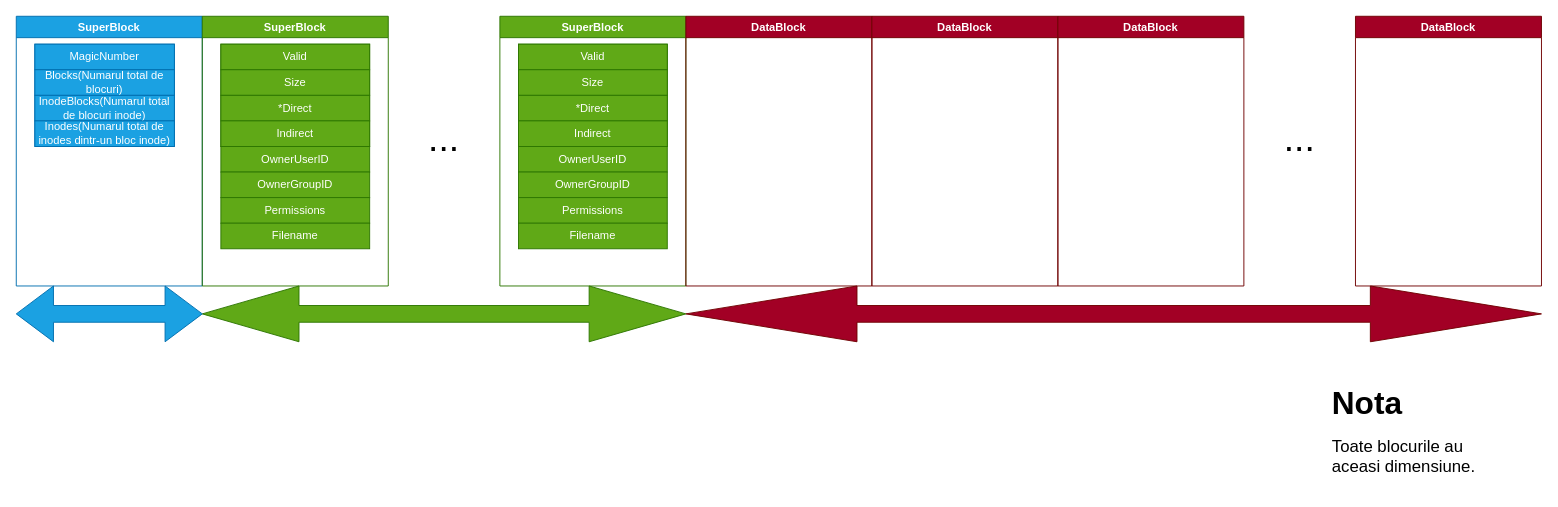
This 1558x507 diagram has some shape labels left out. Here are the shapes that lost their labels. From the top down, the centre of each, then its label:
At [108,313]: "un bloc pentru metadate".
At [443,313]: "10% din numarul total de blocuri".
At [1113,313]: "blocuri de date".
